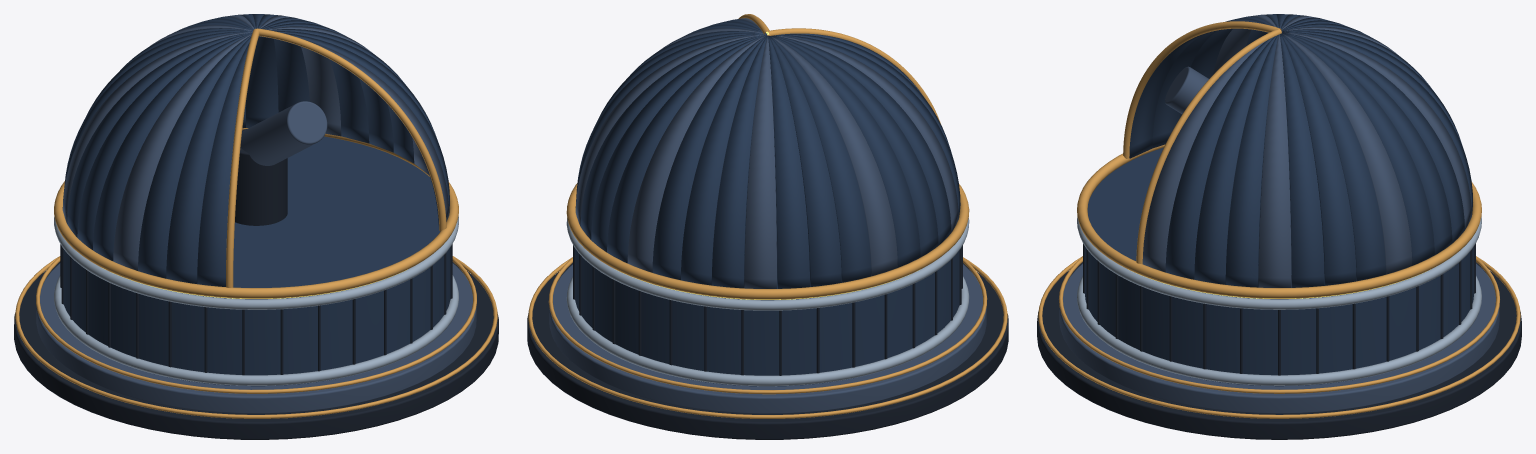
Rendered from dome.glb.
The picture shows the model from 3 angles, left to right: view 1: azimuth 30°, elevation 25°; view 2: azimuth 150°, elevation 25°; view 3: azimuth 270°, elevation 25°; orthographic projection.
Visible parts, largest first — view 1: ObservatoryDome; view 2: ObservatoryDome; view 3: ObservatoryDome.
Part boxes in pixels (x1=…): ObservatoryDome: x1=14, y1=14, x2=498, y2=439; ObservatoryDome: x1=527, y1=14, x2=1008, y2=439; ObservatoryDome: x1=1037, y1=14, x2=1521, y2=439.
Bounding box in the file's own units: 5.9 × 4.15 × 5.9.
